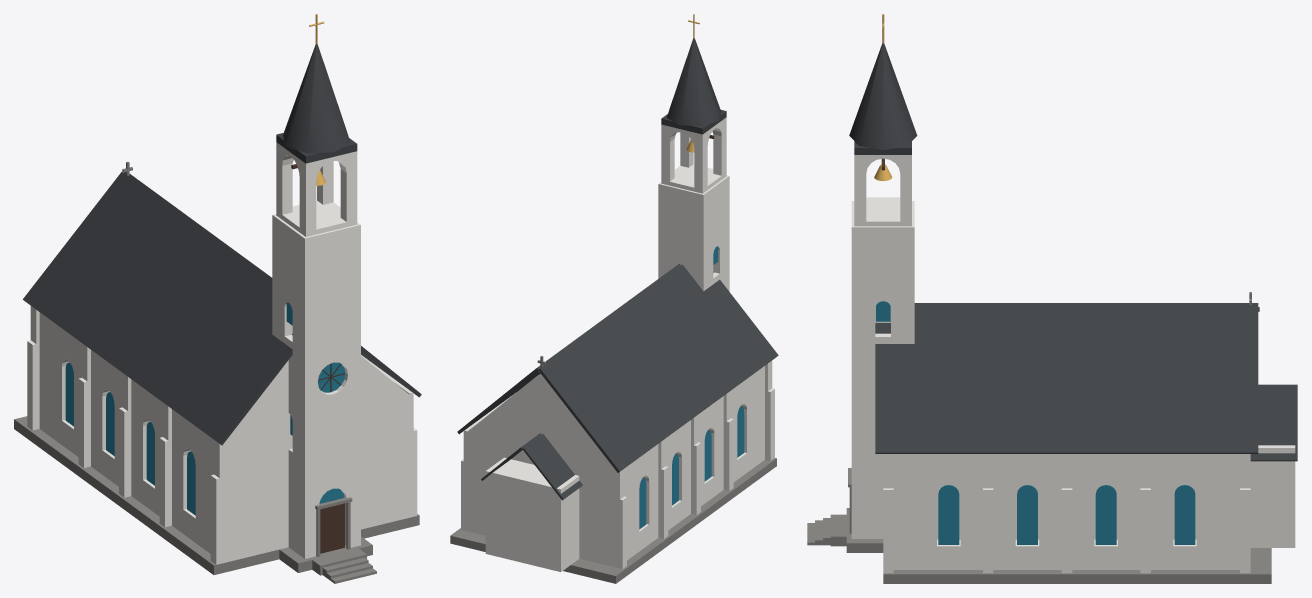
File: church.glb
The picture shows the model from 3 angles, left to right: view 1: azimuth 30°, elevation 25°; view 2: azimuth 150°, elevation 25°; view 3: azimuth 270°, elevation 25°; orthographic projection. The views are drawn at different scales.
Parts seen in each view (by area): view 1: Mesh_RoofTileL, Mesh_Nave, Mesh_Tower, Mesh_ButtressBot (×6), Mesh_Belfry, Mesh_NaveFoundation, Mesh_SpireCone, Mesh_WindowGlassR (×4), Mesh_RoofTileR, Mesh_TowerFoundation, Mesh_PorchPlatform, Mesh_SpireBase (+3 smaller); view 2: Mesh_RoofTileL, Mesh_Nave, Mesh_ApseBody, Mesh_Tower, Mesh_NaveFoundation, Mesh_ButtressBot (×5), Mesh_Belfry, Mesh_SpireCone, Mesh_ApseRoofL, Mesh_RoofTileR, Mesh_SpireBase; view 3: Mesh_RoofTileR, Mesh_Nave, Mesh_Tower, Mesh_NaveFoundation, Mesh_WindowGlassL (×4), Mesh_ButtressBot (×5), Mesh_ApseBody, Mesh_SpireCone, Mesh_Belfry, Mesh_ApseRoofR, Mesh_RoofTileL, Mesh_PorchPlatform.
Part boxes in pixels (left/top/right/bottom): Mesh_RoofTileL: left=23, top=172, right=292, bottom=445; Mesh_Nave: left=39, top=312, right=410, bottom=562; Mesh_Tower: left=272, top=214, right=360, bottom=558; Mesh_ButtressBot (×6): left=27, top=340, right=417, bottom=564; Mesh_Belfry: left=276, top=142, right=357, bottom=236; Mesh_NaveFoundation: left=14, top=416, right=419, bottom=574; Mesh_SpireCone: left=283, top=44, right=350, bottom=153; Mesh_WindowGlassR (×4): left=65, top=362, right=195, bottom=515; Mesh_RoofTileR: left=124, top=172, right=421, bottom=397; Mesh_TowerFoundation: left=279, top=536, right=372, bottom=572; Mesh_PorchPlatform: left=310, top=546, right=366, bottom=575; Mesh_SpireBase: left=276, top=133, right=357, bottom=163; Mesh_RoofTileL: left=538, top=264, right=778, bottom=472; Mesh_Nave: left=466, top=366, right=764, bottom=567; Mesh_ApseBody: left=485, top=457, right=579, bottom=571; Mesh_Tower: left=658, top=175, right=729, bottom=291; Mesh_NaveFoundation: left=450, top=458, right=776, bottom=583; Mesh_ButtressBot (×5): left=617, top=388, right=774, bottom=569; Mesh_Belfry: left=661, top=117, right=726, bottom=193; Mesh_SpireCone: left=667, top=38, right=721, bottom=126; Mesh_ApseRoofL: left=522, top=434, right=582, bottom=500; Mesh_RoofTileR: left=457, top=263, right=680, bottom=434; Mesh_SpireBase: left=661, top=110, right=726, bottom=134; Mesh_RoofTileR: left=875, top=305, right=1258, bottom=453; Mesh_Nave: left=893, top=454, right=1239, bottom=569; Mesh_Tower: left=851, top=201, right=914, bottom=538; Mesh_NaveFoundation: left=883, top=548, right=1271, bottom=583; Mesh_WindowGlassL (×4): left=938, top=485, right=1195, bottom=544; Mesh_ButtressBot (×5): left=883, top=488, right=1250, bottom=573; Mesh_ApseBody: left=1250, top=445, right=1295, bottom=547; Mesh_SpireCone: left=849, top=43, right=917, bottom=149; Mesh_Belfry: left=854, top=155, right=911, bottom=226; Mesh_ApseRoofR: left=1250, top=386, right=1297, bottom=461; Mesh_RoofTileL: left=914, top=303, right=1258, bottom=304; Mesh_PorchPlatform: left=830, top=514, right=851, bottom=546.
Size of the model in its own units: 8.8 by 21.9 by 18.7.
